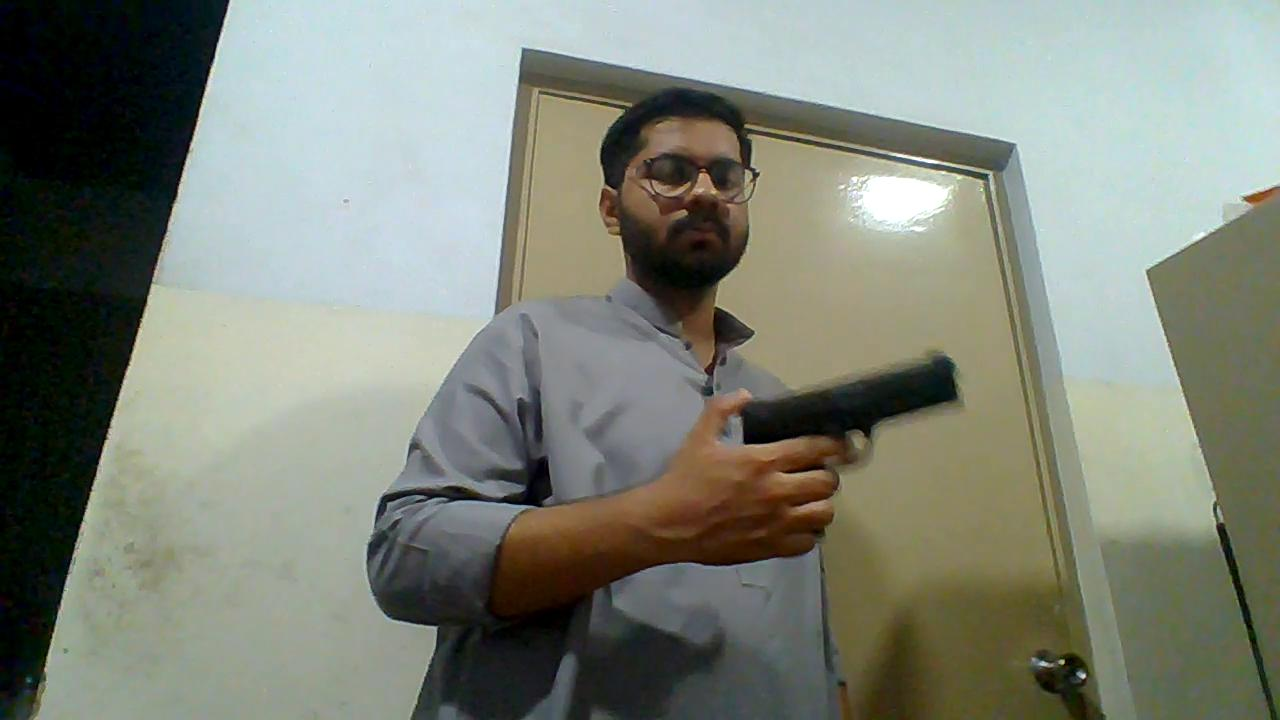criminal: (364, 89, 964, 720)
weapon: (736, 354, 963, 478)
